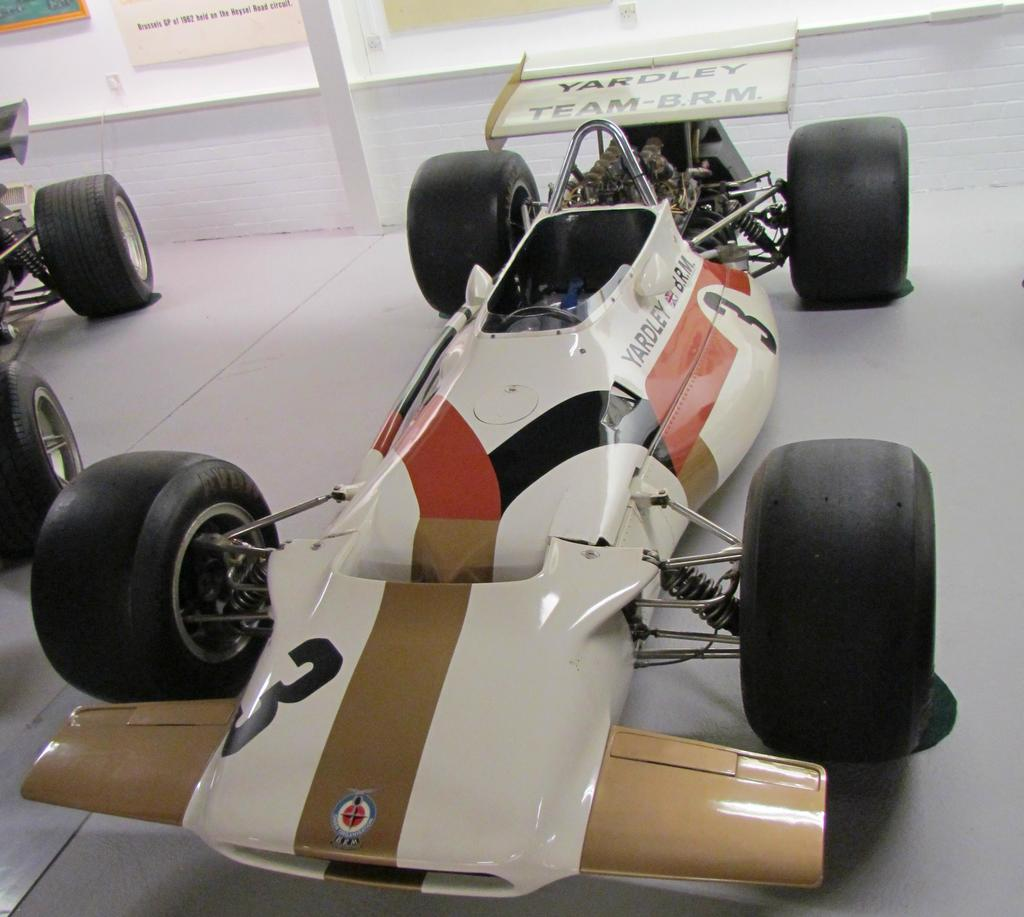Car: (30, 55, 944, 890), (0, 103, 154, 574)
